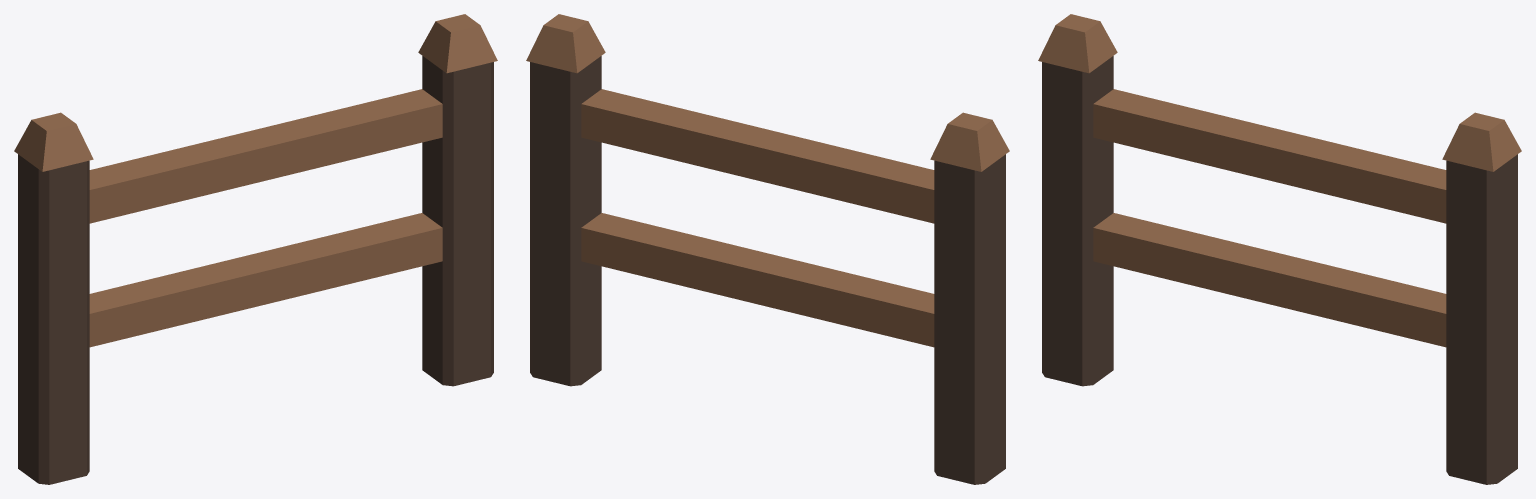
File: yard_railing.glb
The picture shows the model from 3 angles, left to right: view 1: azimuth 30°, elevation 25°; view 2: azimuth 150°, elevation 25°; view 3: azimuth 330°, elevation 25°; orthographic projection.
Visible parts, largest first — view 1: Yard railing; view 2: Yard railing; view 3: Yard railing.
Part boxes in pixels (bbox=[...]): Yard railing: bbox=[14, 14, 497, 484]; Yard railing: bbox=[526, 14, 1009, 484]; Yard railing: bbox=[1038, 14, 1521, 484].
Bounding box in the file's own units: 0.924 × 0.675 × 0.1.
